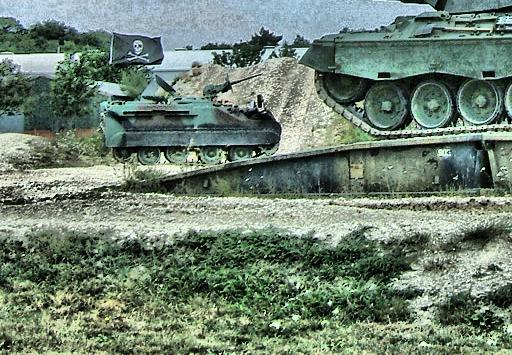tanks: (305, 1, 512, 138), (103, 78, 283, 166)
